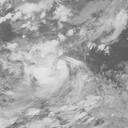cyclone: (29, 51, 82, 95)
